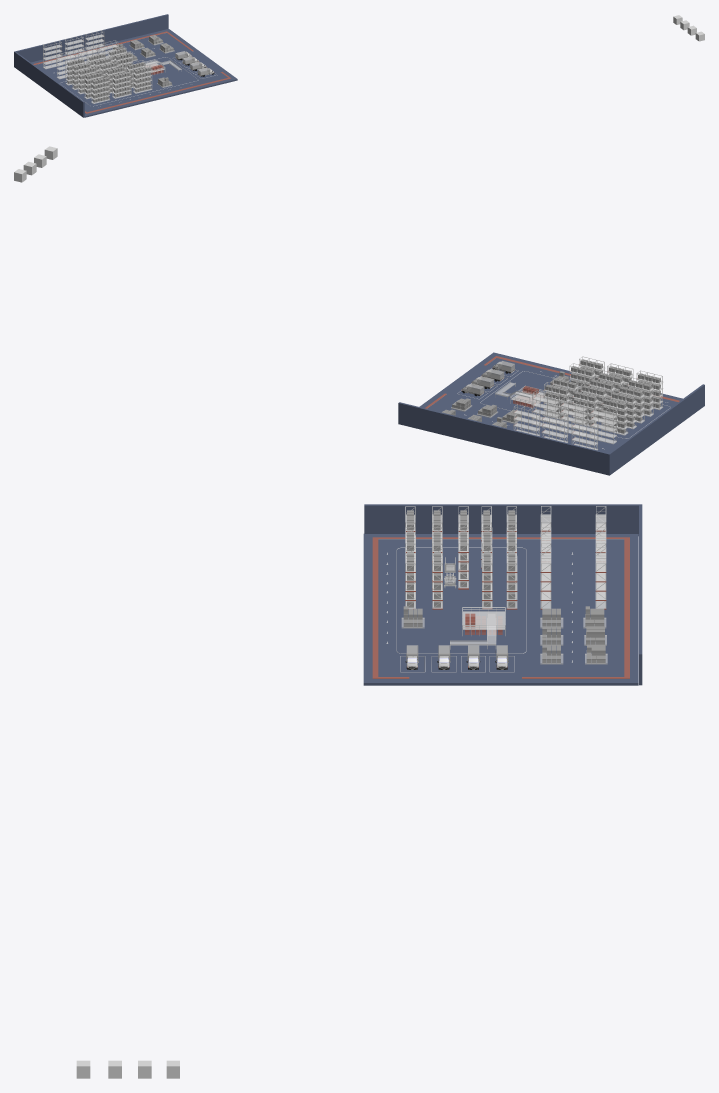
Rendered from house.glb.
3 views of the same model, one above another, from view 1: azimuth 30°, elevation 25°; view 2: azimuth 150°, elevation 25°; view 3: azimuth 270°, elevation 25° (orthographic). The views are drawn at different scales.
Parts seen in each view (by area): view 1: 地面, Cube.013, Cube.012, 黄色, 立方体.466, 立方体.470, 立方体.468, 立方体.465, 立方体.155, 立方体.124, 立方体.434, 立方体.467 (+3 smaller); view 2: 地面, Cube.013, Cube.012, 立方体.465, 立方体.467, 立方体.469, 立方体.466, 立方体.470, 立方体.468; view 3: 地面, Cube.012, 黄色.
Part boxes in pixels (box(x1,y1,x2,y2)): 地面: box(31, 29, 237, 117); Cube.013: box(16, 14, 168, 62); Cube.012: box(14, 51, 84, 117); 黄色: box(33, 31, 230, 113); 立方体.466: box(43, 40, 62, 69); 立方体.470: box(85, 30, 104, 58); 立方体.468: box(64, 35, 84, 60); 立方体.465: box(56, 50, 75, 79); 立方体.155: box(112, 70, 131, 98); 立方体.124: box(133, 65, 152, 93); 立方体.434: box(91, 75, 110, 103); 立方体.467: box(78, 45, 97, 63); 地面: box(419, 352, 682, 452); Cube.013: box(398, 402, 608, 474); Cube.012: box(607, 384, 704, 475); 立方体.465: box(590, 404, 616, 444); 立方体.467: box(560, 397, 586, 436); 立方体.469: box(532, 390, 558, 430); 立方体.466: box(571, 418, 598, 450); 立方体.470: box(513, 404, 540, 436); 立方体.468: box(541, 411, 568, 442); 地面: box(363, 534, 638, 685); Cube.012: box(364, 504, 642, 535); 黄色: box(372, 537, 629, 678).
Size of the model in its own units: 187 by 9.1 by 83.13.
